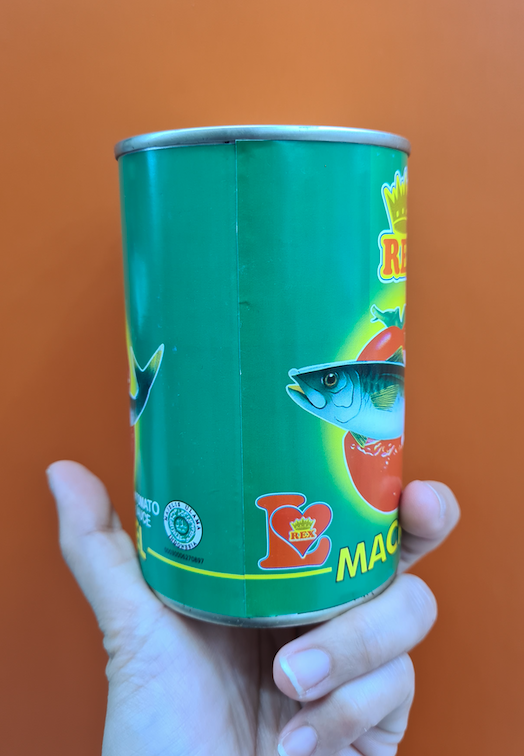Canned_Sardines_and_Mackerel: (131, 141, 398, 595)
